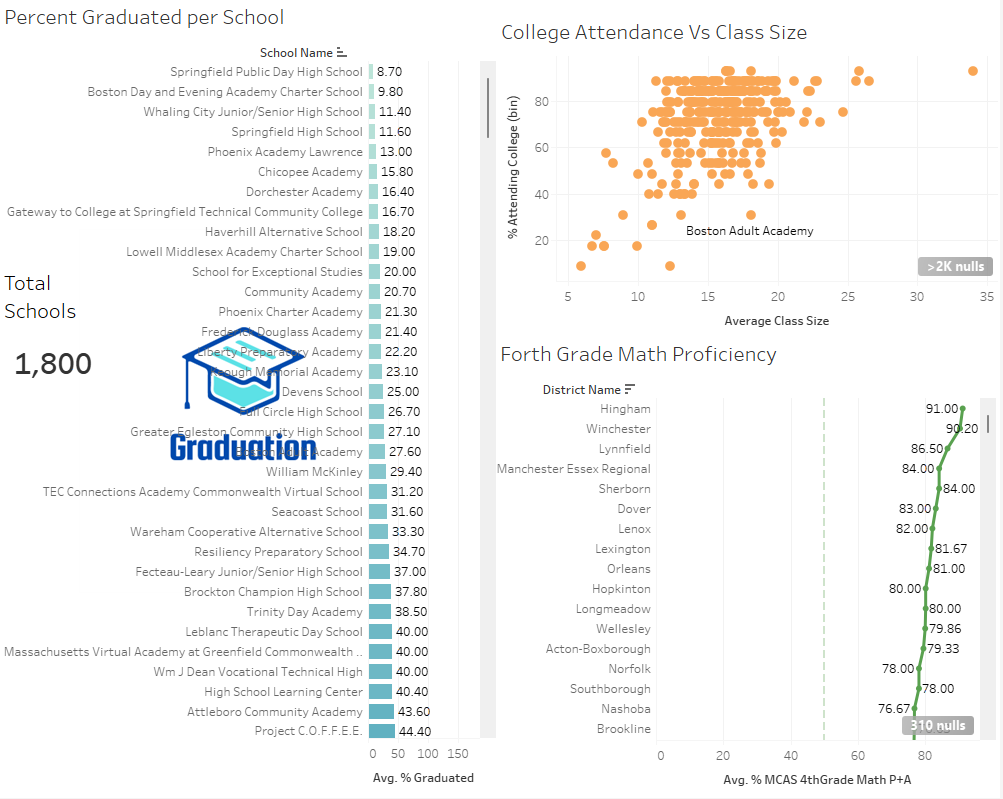

Layout of this report page (visuals, bound fields, positions):
{"tool":"tableau","page":{"name":"Mass School Dashboard ","canvas":[1000,800],"ordinal":0},"visuals":[{"type":"worksheet","title":"Percent Graduated per School","mark":"Bar","rows":["School Name"],"cols":["% Graduated"],"box":[0,0,496,795]},{"type":"worksheet","title":"College Attendance Vs Class Size ","mark":"Automatic","rows":["% Attending College (bin)"],"cols":["Average Class Size"],"box":[497,15,501,323]},{"type":"image","param":"C:/Users/kyleh/Downloads/Untitled design (4).png","box":[20,231,446,364]},{"type":"worksheet","title":"Total Schools","mark":"Automatic","box":[0,266,181,139]},{"type":"worksheet","title":"Forth Grade Math Proficiency","mark":"Line","rows":["District Name"],"cols":["% MCAS_4thGrade_Math_P+A"],"box":[496,337,500,460]}]}

Visuals, with their boxes in screenshot pixels (x1, y1, x2, y2), scaled from the page's 1000x800 canvas onto the 1003x799 screenshot:
"Percent Graduated per School" worksheet (Bar marks): <bbox>0, 0, 497, 794</bbox>
"College Attendance Vs Class Size " worksheet: <bbox>498, 15, 1001, 338</bbox>
image: <bbox>20, 231, 467, 594</bbox>
"Total Schools" worksheet: <bbox>0, 266, 182, 404</bbox>
"Forth Grade Math Proficiency" worksheet (Line marks): <bbox>497, 337, 999, 796</bbox>
